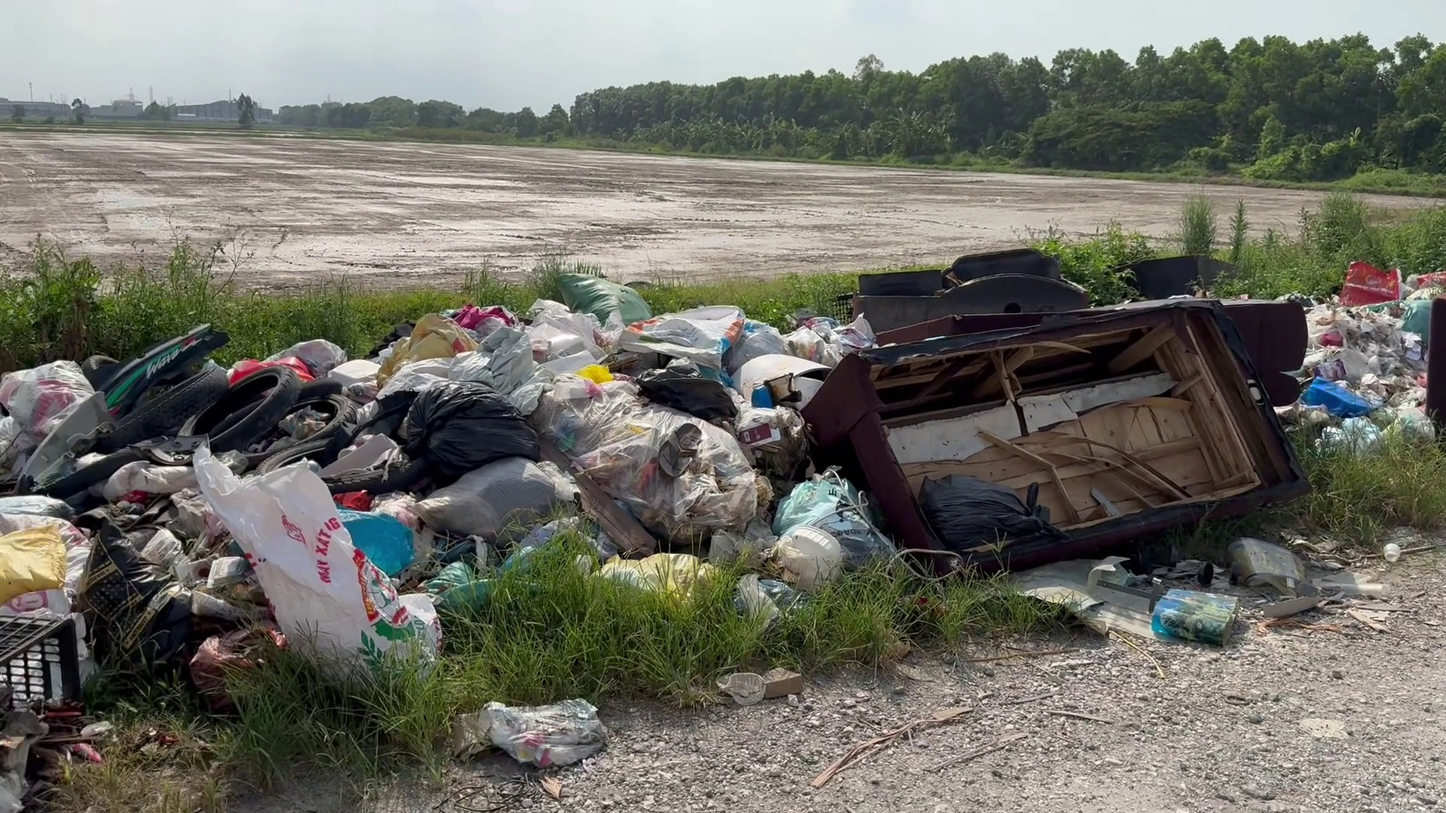garbage: (0, 606, 90, 710), (0, 359, 94, 431), (0, 520, 81, 592)
